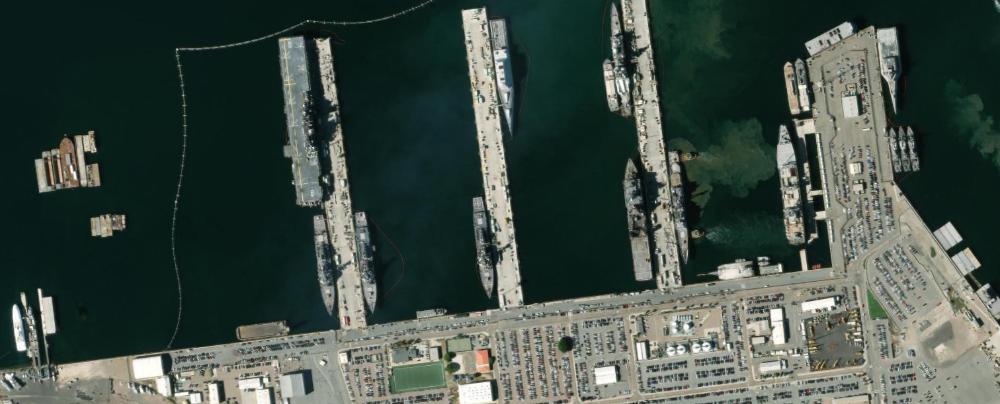cruiser: (605, 2, 635, 120)
fregate: (349, 212, 385, 315), (471, 196, 498, 301), (310, 214, 337, 319)
littoral combat ship: (873, 25, 905, 114)
pha: (272, 29, 335, 211), (617, 156, 662, 285)
